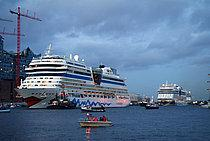Ship: (14, 40, 135, 112), (154, 79, 193, 111)
